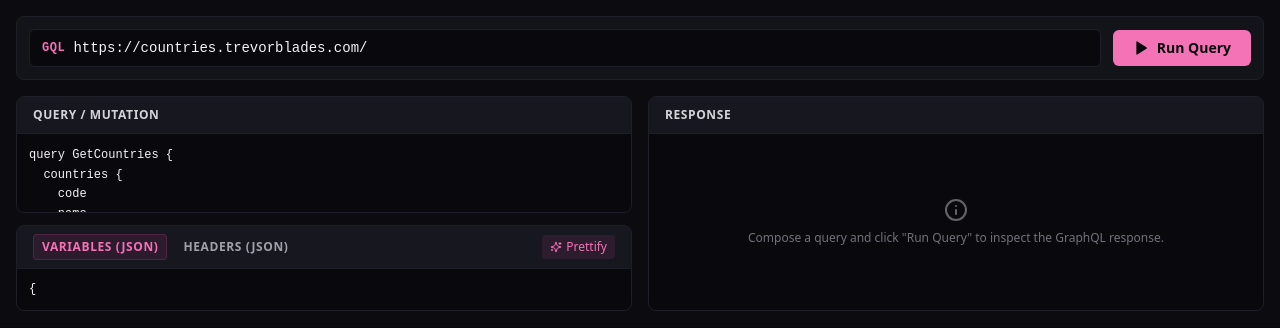
Scenario: GraphQLPanel › allows switching between Variables and Headers tabs
Click the button "Headers (JSON)" at x=236, y=247, box [176, 235, 296, 259]
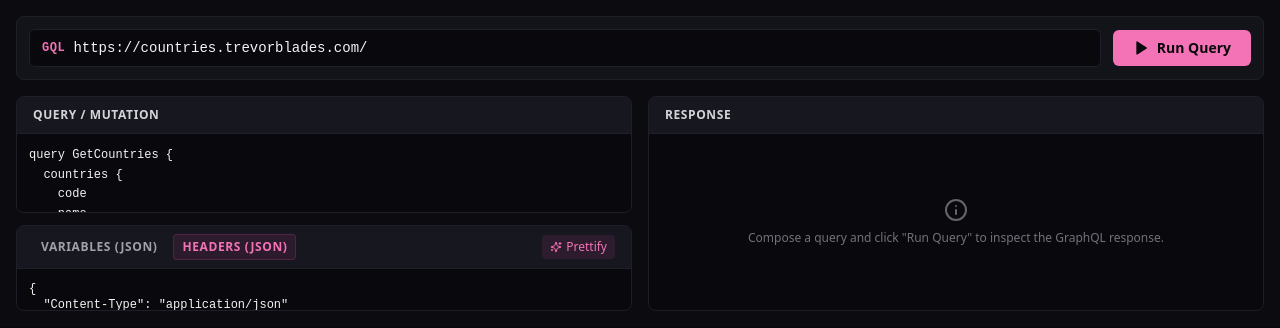
Check: the 2nd text box with placeholder "{ \"Authorization\": \"Bearer ...\" }" is shown, box [17, 269, 631, 310]
Click the button "Variables (JSON)" at x=99, y=247, box [33, 235, 166, 259]
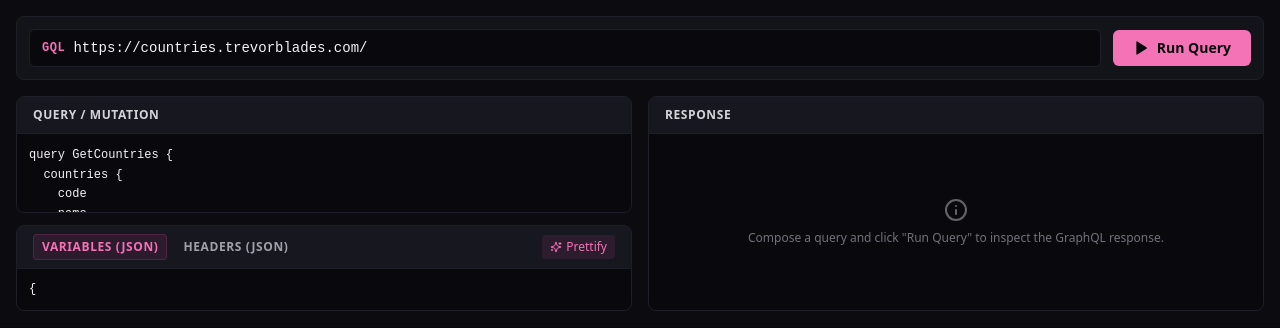
Check: the 2nd text box with placeholder "{ \"id\": \"1\" }" is shown, box [17, 269, 631, 310]
